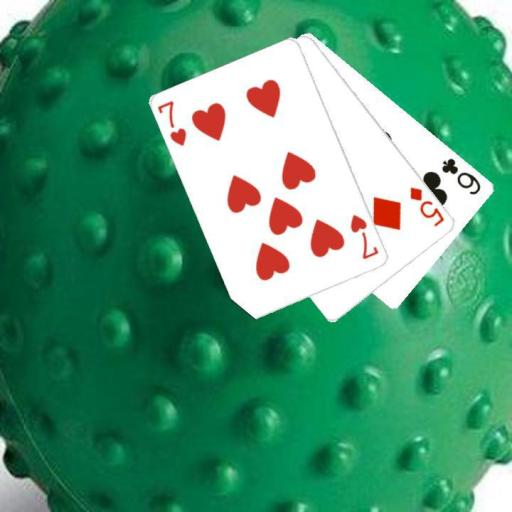5D: (407, 184, 447, 229)
6C: (439, 155, 483, 197)
7H: (155, 97, 189, 148), (347, 211, 380, 262)
